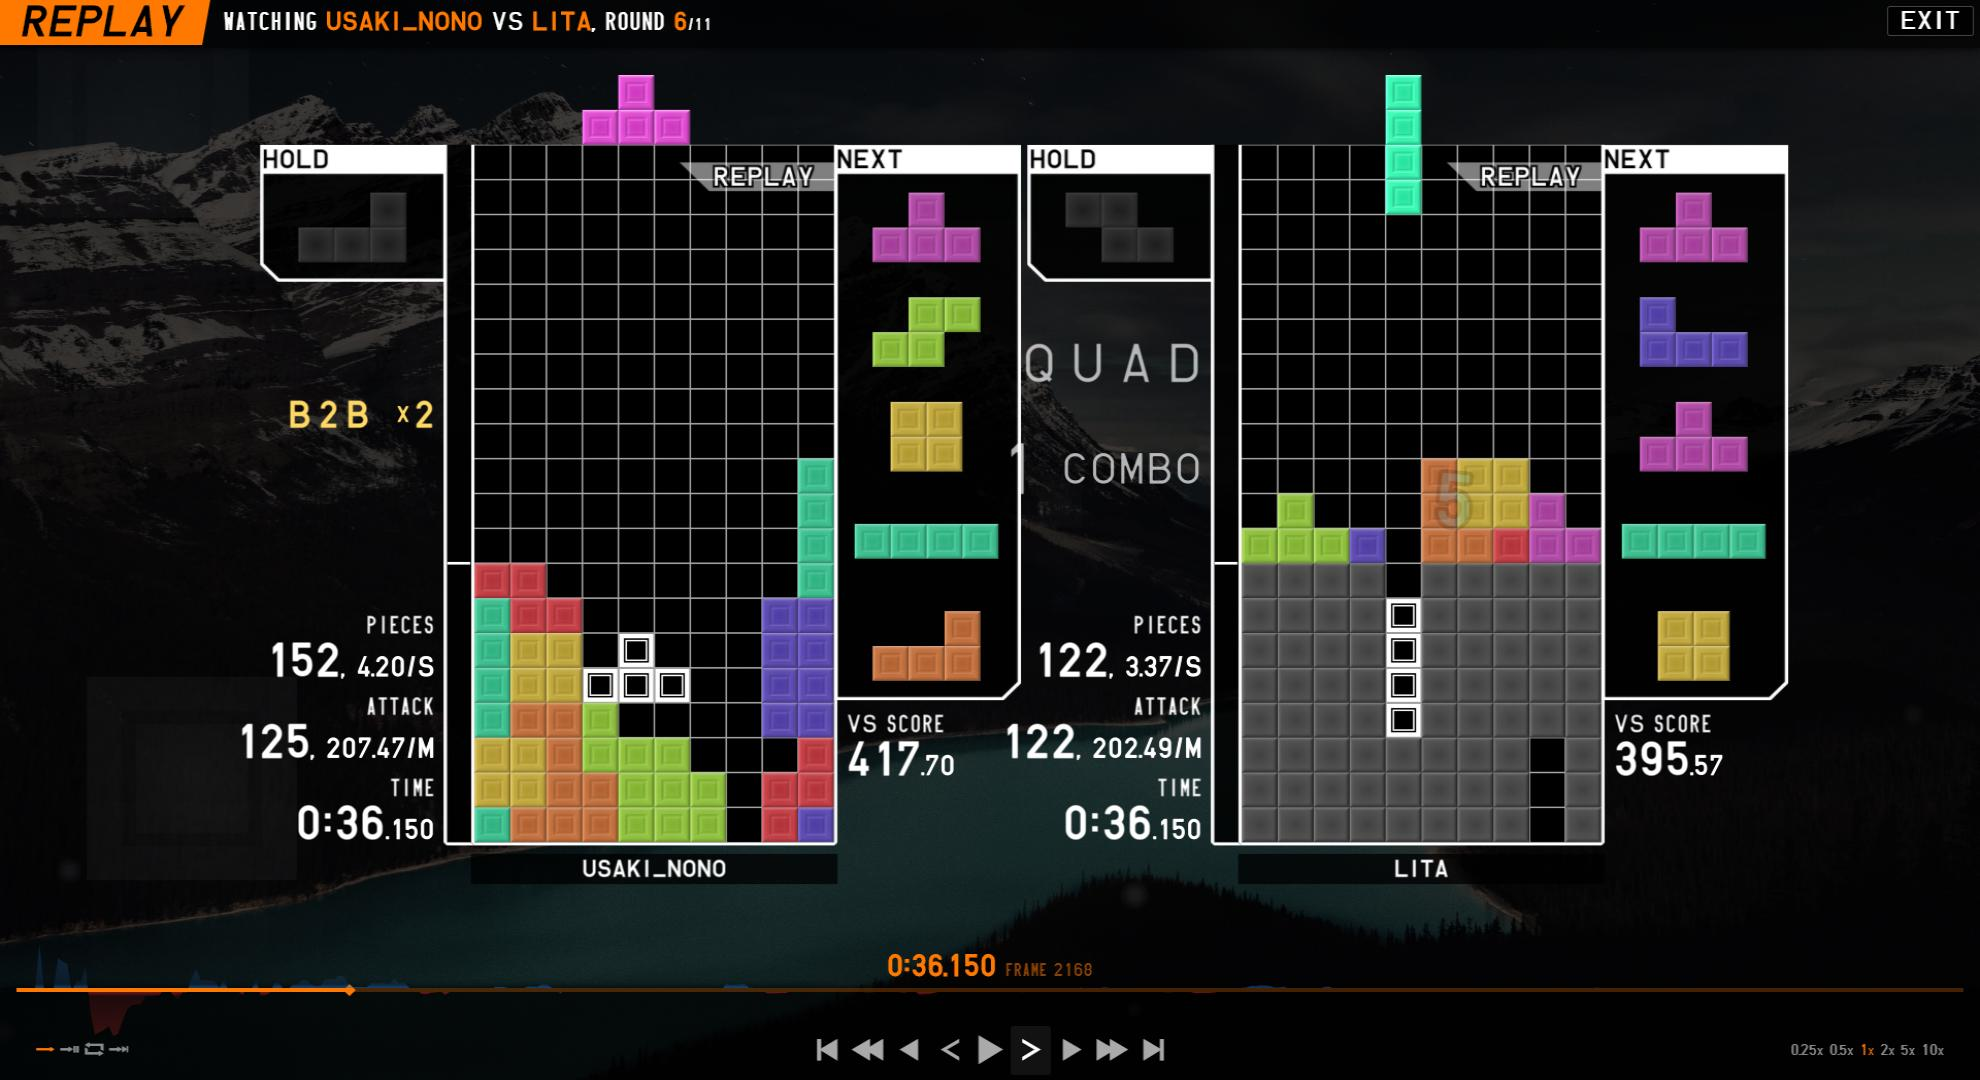tspin: (693, 696, 814, 807)
